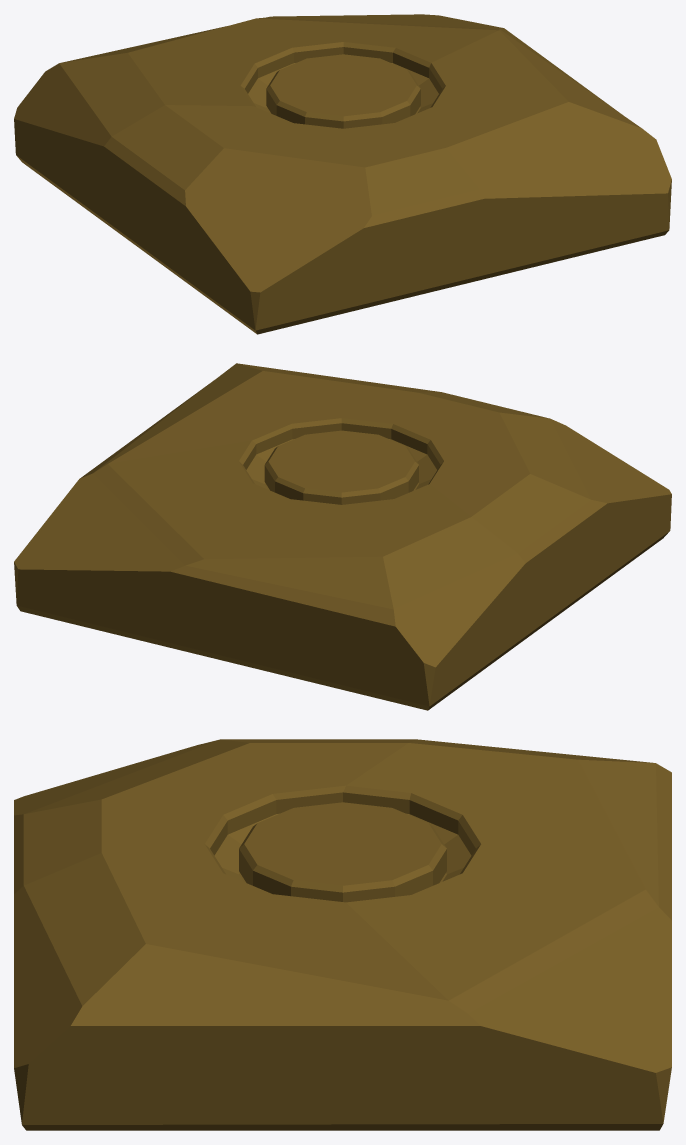
File: Tile.fbx
3 renders of one model, top to bottom at view 1: azimuth 30°, elevation 25°; view 2: azimuth 150°, elevation 25°; view 3: azimuth 270°, elevation 25°, orthographic. The views are drawn at different scales.
Parts seen in each view (by area): view 1: Cube; view 2: Cube; view 3: Cube.
Boxes of the visible parts, bbox=[...] form: Cube: bbox=[14, 14, 671, 334]; Cube: bbox=[14, 363, 671, 710]; Cube: bbox=[14, 739, 671, 1130].
Size of the model in its own units: 200 by 51.18 by 200.
